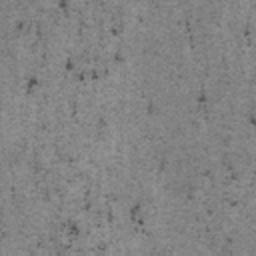Oxide scale of temperature system: (15, 0, 145, 128), (35, 188, 152, 251), (187, 164, 238, 244), (184, 19, 196, 50), (193, 90, 206, 104), (147, 101, 154, 118), (243, 29, 252, 38), (67, 155, 74, 165), (250, 116, 256, 127)
